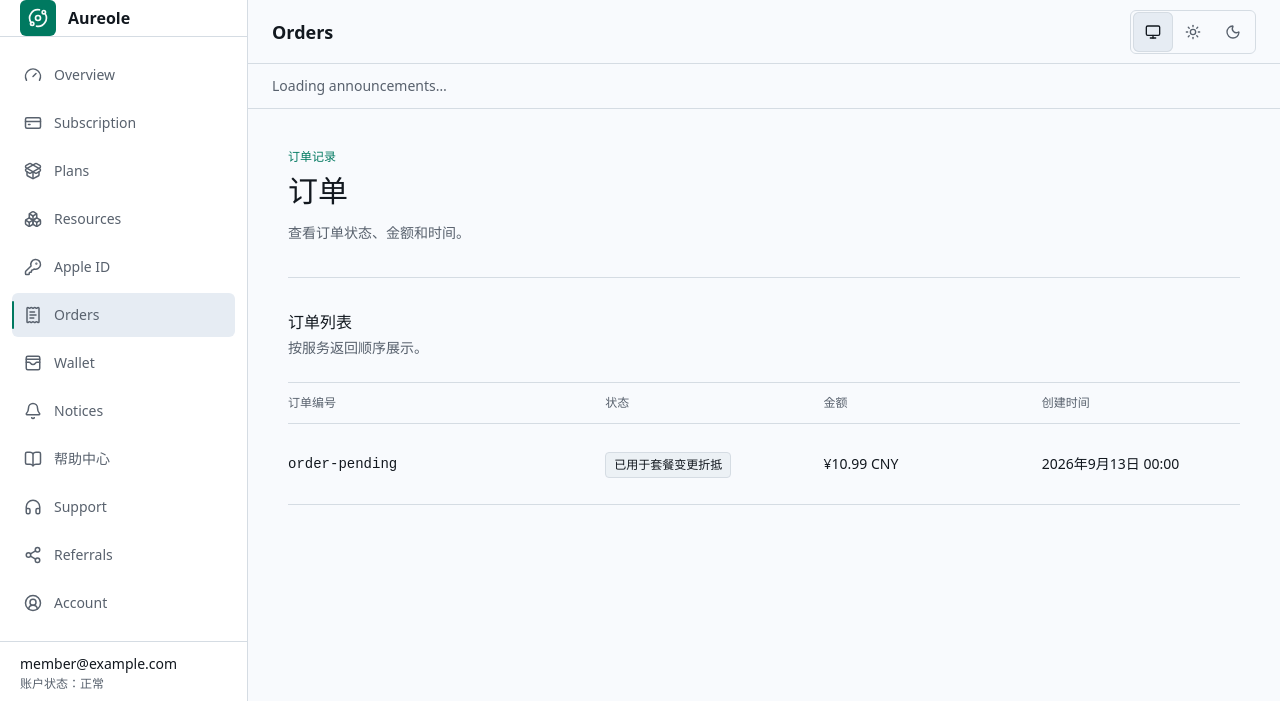
Scenario: Order Cancel flow › does not offer Cancel for authoritative adjusted Detail
Step 1. Click the button "order-pending 已用于套餐变更折抵 ¥10.99 CNY 2026年9月13日 00:00" → (343, 464), box [288, 424, 1240, 504]
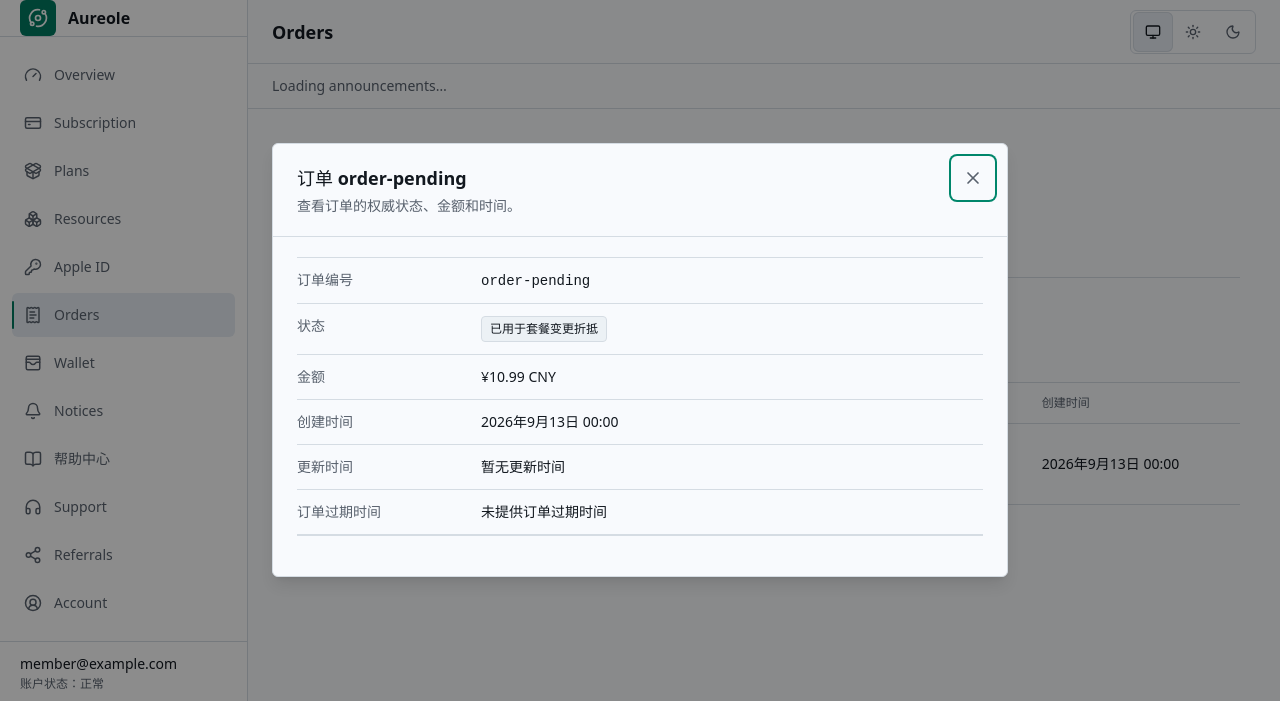
Check: the heading "订单 order-pending" is shown, box [297, 166, 467, 190]
Check: the text "已用于套餐变更折抵" is shown, box [481, 316, 607, 342]
